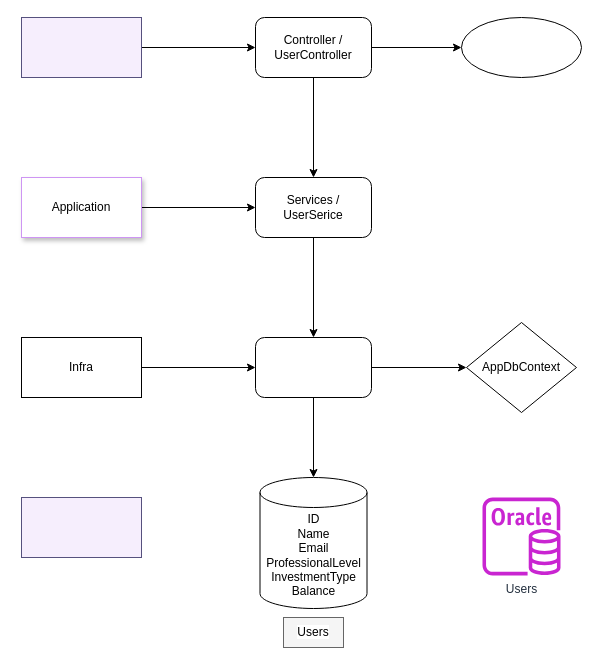
This 599x665 diagram has some shape labels left out. Each missing label, with the centre of its shape:
"API" belongs at [81,47].
"DB Oracle" belongs at [81,527].
"GET, POST, PUT, DELETE" belongs at [521,47].
"Repositories / UserRepository" belongs at [313,367].
